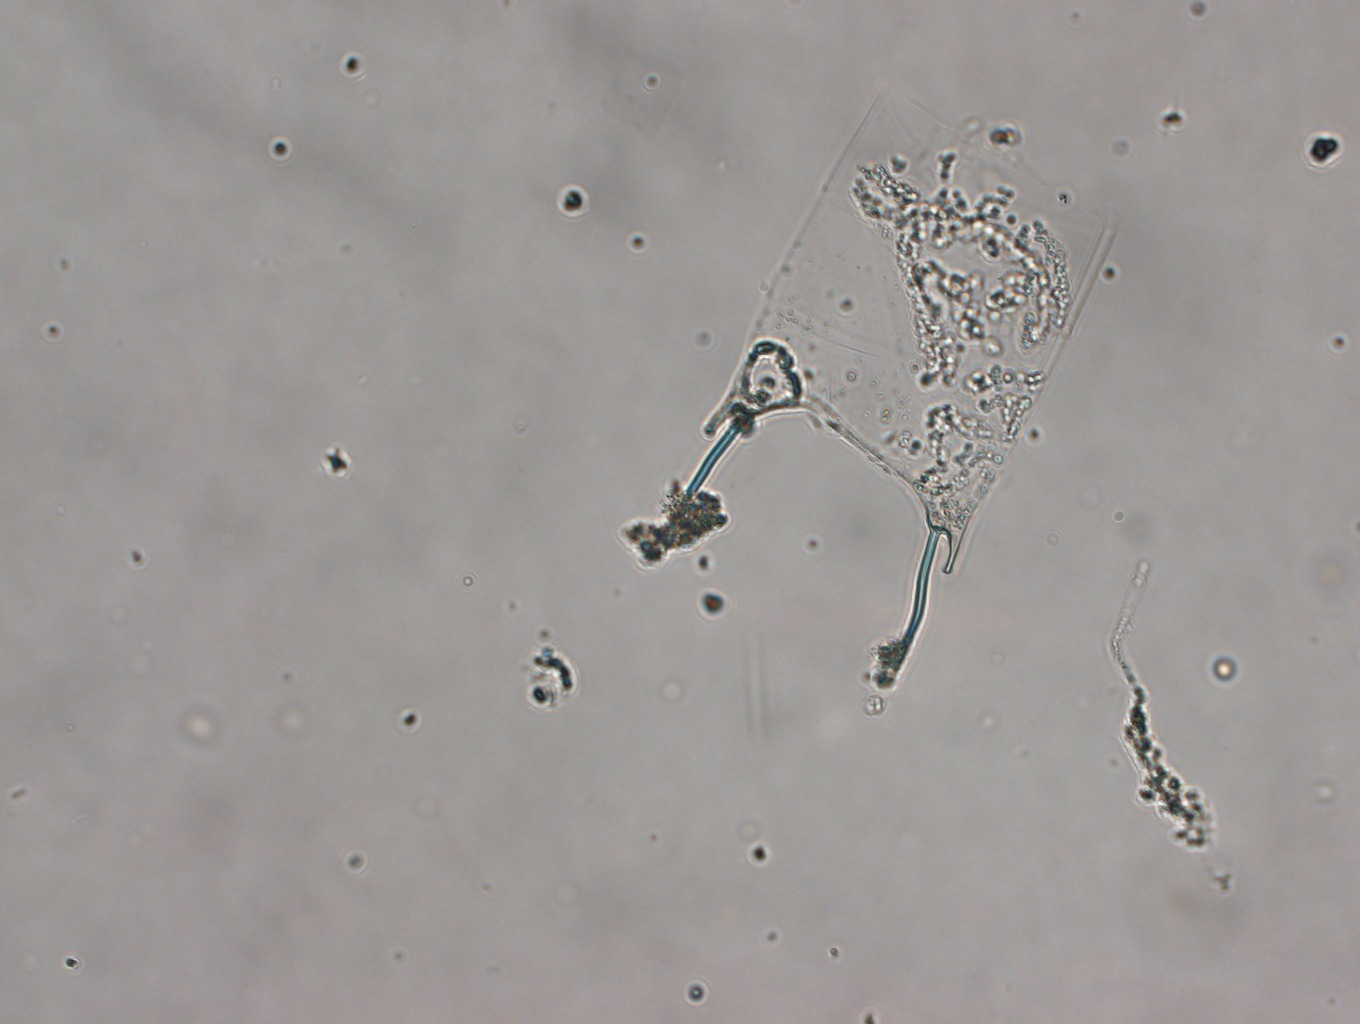biddulphia: (679, 58, 1120, 650)
